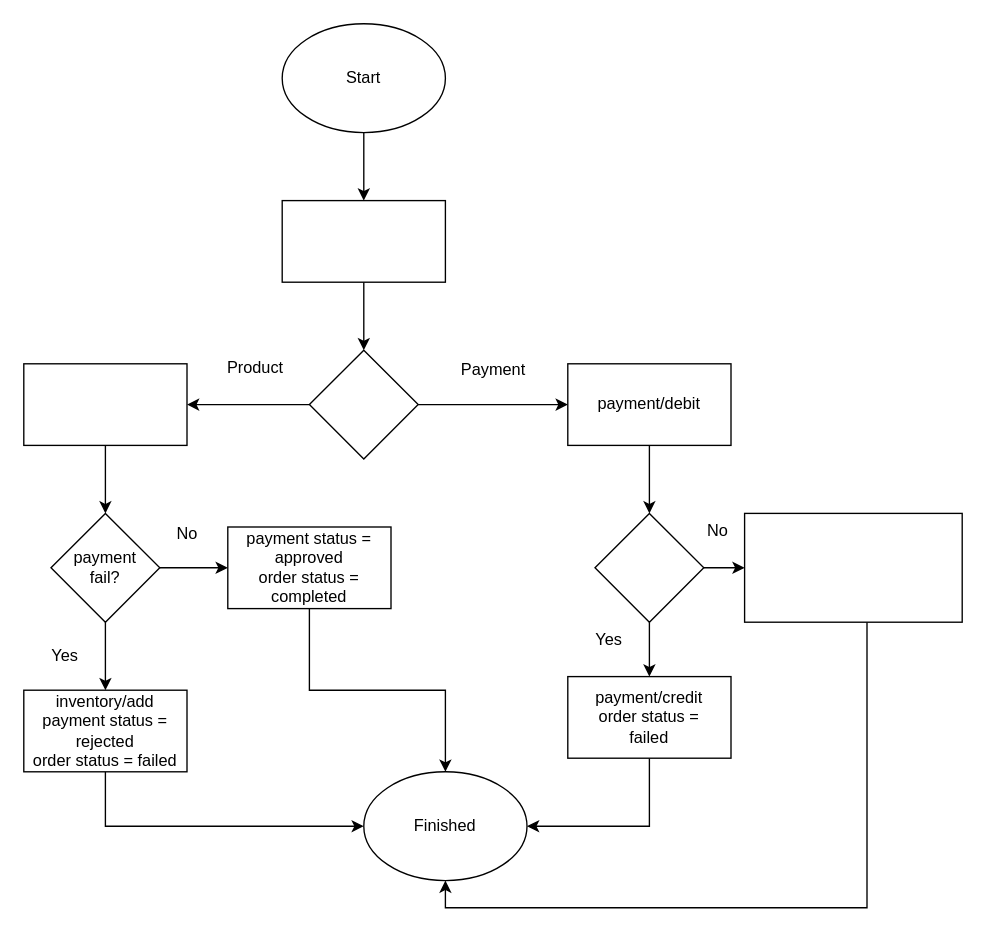
The diagram is 986 pixels wide and 942 high, and some of its shapes have lost their labels. The shapes that lost their labels are listed below. From the top down, each one's box as (x1, y1, x2, y2) in pixels, then its label:
(281, 199, 445, 282): order/create
(22, 362, 187, 445): inventory/deduct
(594, 512, 704, 622): insufficient stock?
(743, 512, 962, 622): payment status = approved order status = completed inventory/deduct
